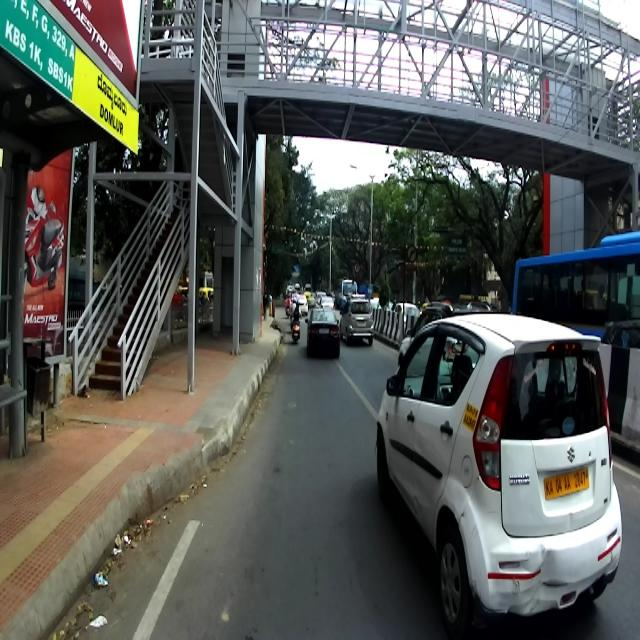Car_Hyundai: (397, 300, 492, 370)
Car_Maruti-Suzuki: (374, 310, 622, 630), (340, 292, 373, 348)
bus: (512, 230, 640, 348)
